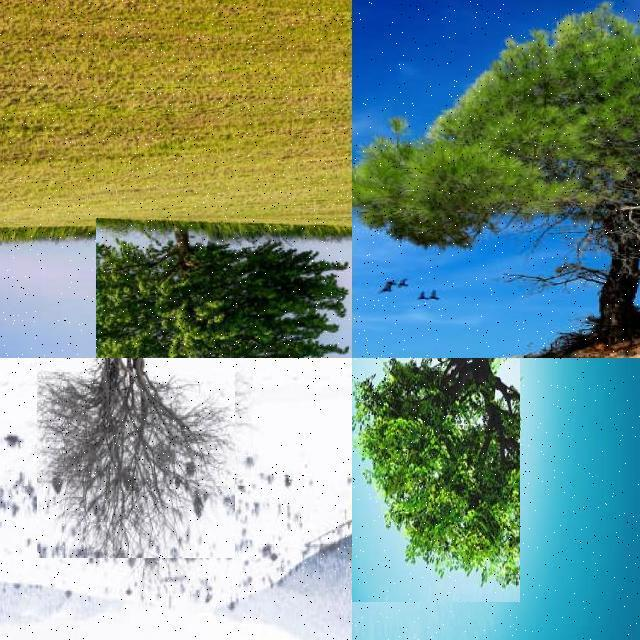tree: (364, 0, 640, 348), (352, 358, 520, 602), (37, 358, 235, 558), (96, 218, 352, 358)
